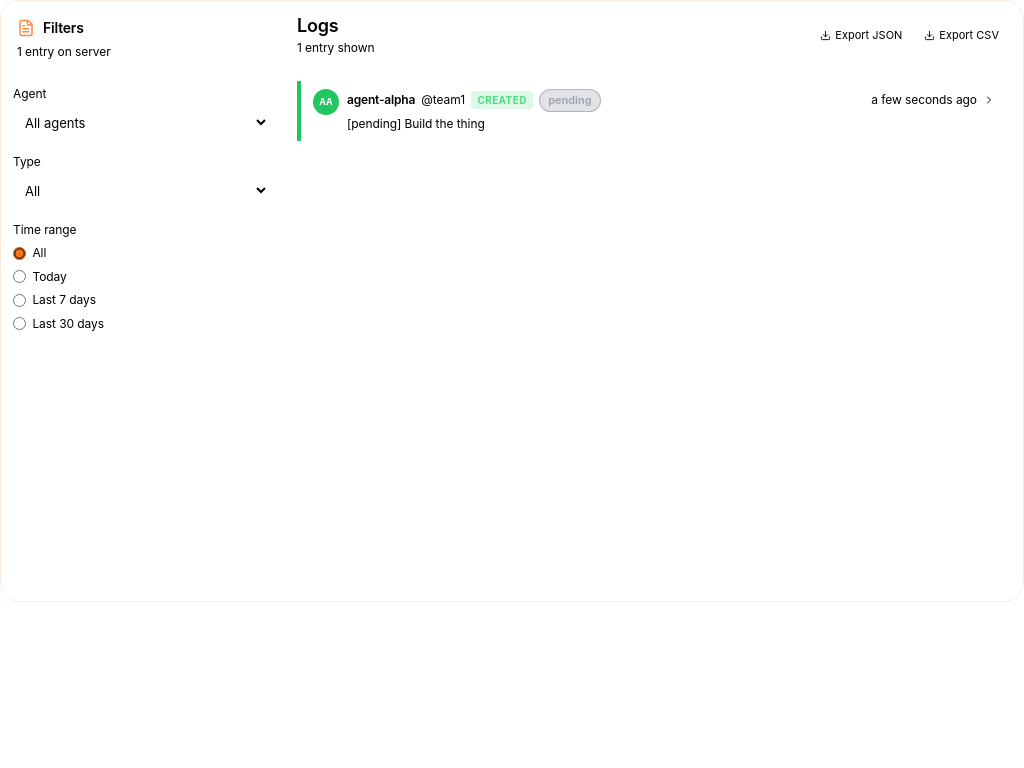
Test: LogViewer › row expand/collapse › clicking a row expands raw JSON pre block
The width and height of the screenshot is (1024, 768).
Expected: the text "[pending] Build the thing" is shown, [347,116,485,131]
Click the button that starts with "agent-alpha": (381, 100) [297,81,1007,141]
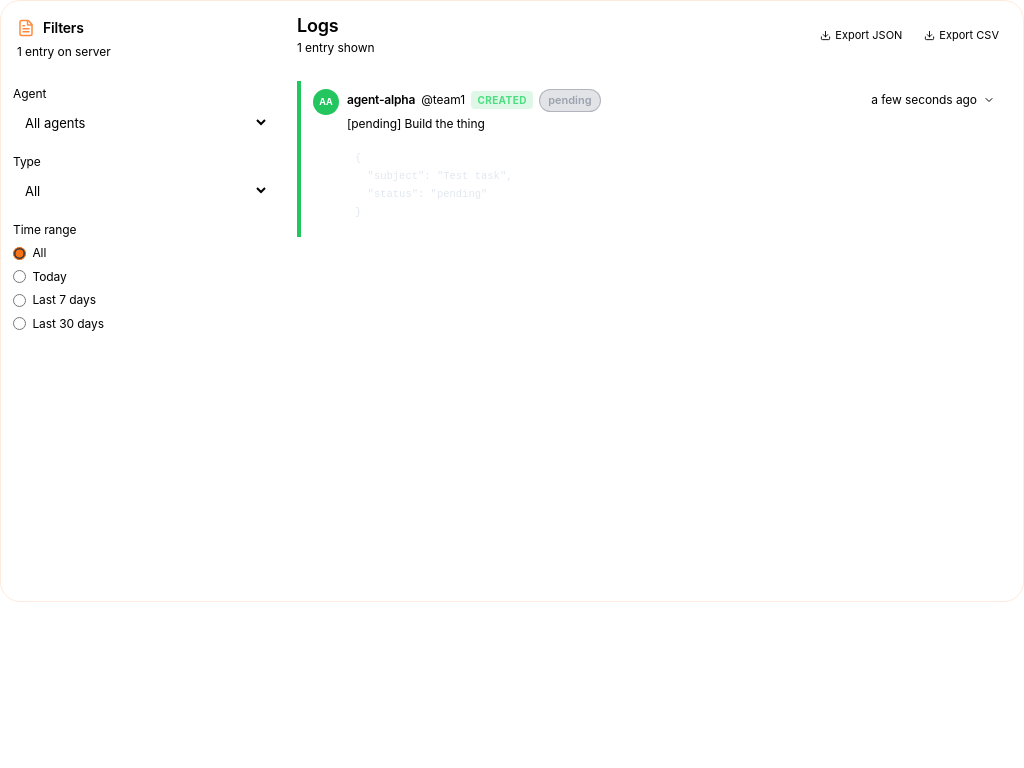
Expected: the text "{ \"subject\": \"Test task\", \"status\": \"pending\" }" is shown, [355,152,512,218]
